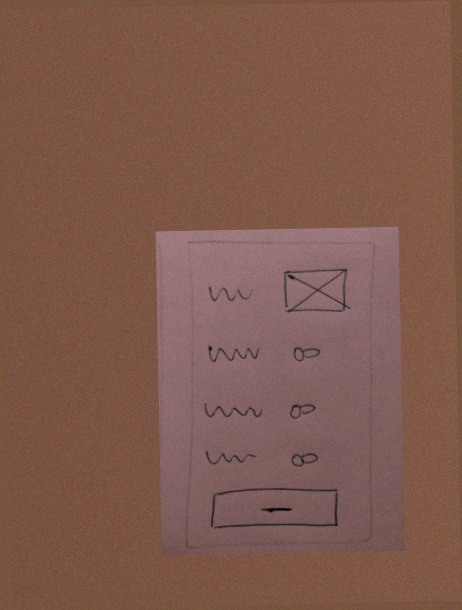button: (207, 483, 342, 535)
image: (279, 265, 353, 319)
switch: (283, 397, 322, 427), (289, 339, 327, 368), (285, 446, 323, 471)
text: (203, 397, 266, 427), (205, 278, 259, 311), (202, 340, 264, 366), (199, 446, 262, 471)
